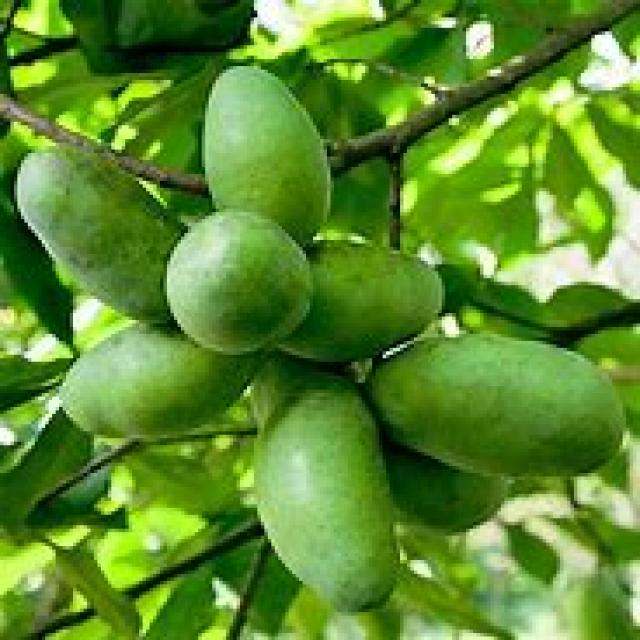mango: (388, 335, 638, 480), (250, 379, 385, 611), (10, 156, 166, 317), (202, 62, 326, 221), (167, 210, 309, 346), (57, 322, 208, 440), (305, 242, 442, 352)
